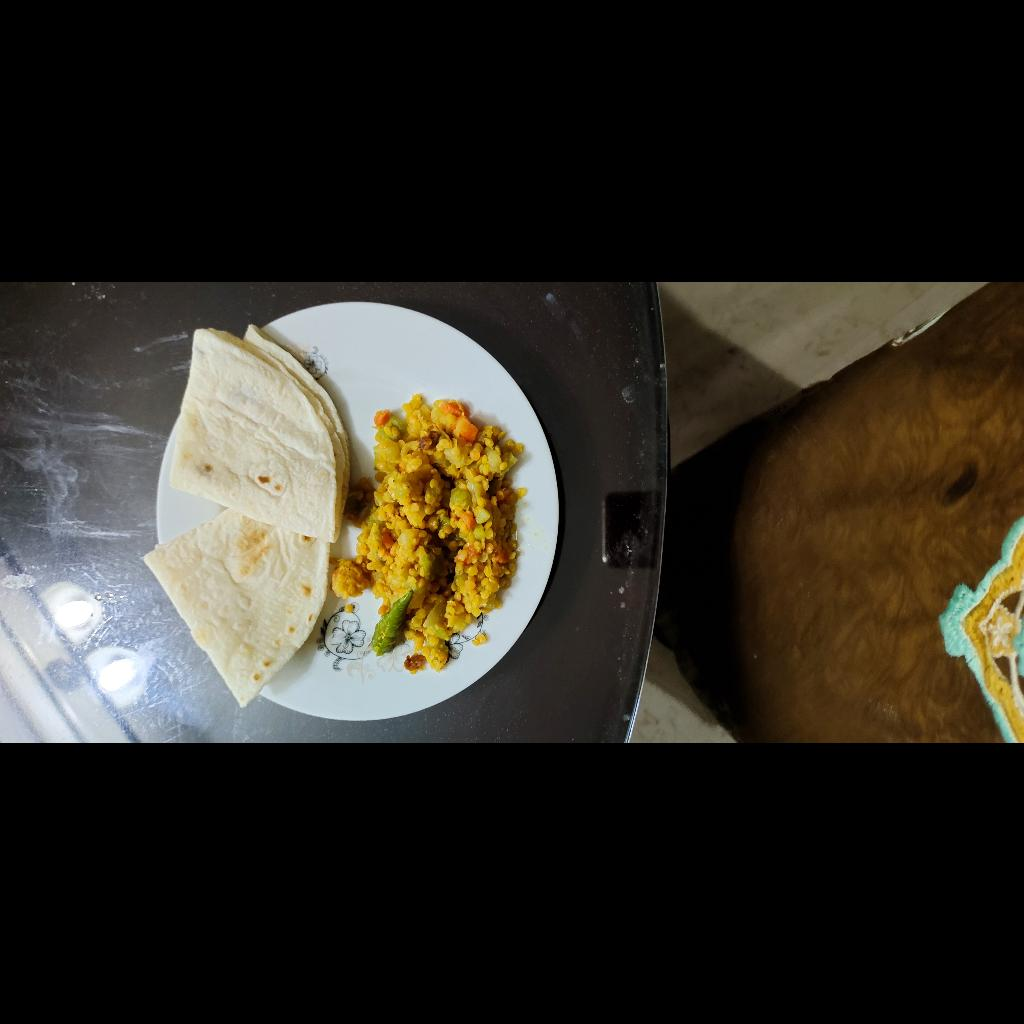daal: (66, 610, 353, 796)
ruti: (35, 424, 420, 631)
